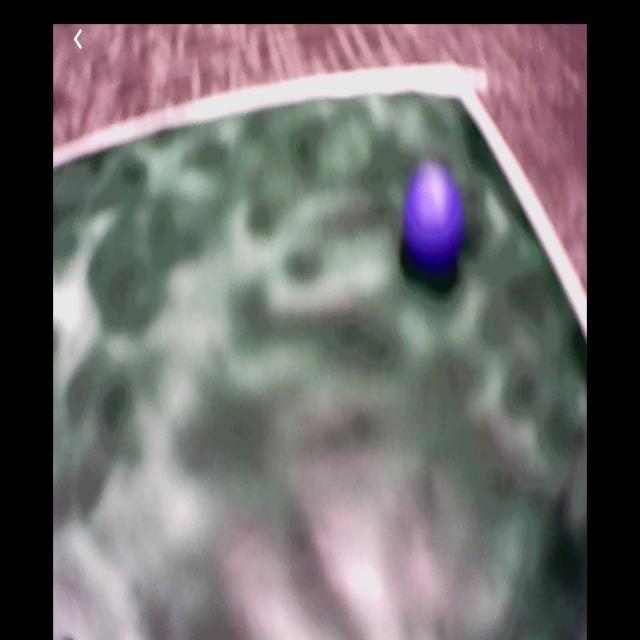ball: (404, 167, 464, 265)
